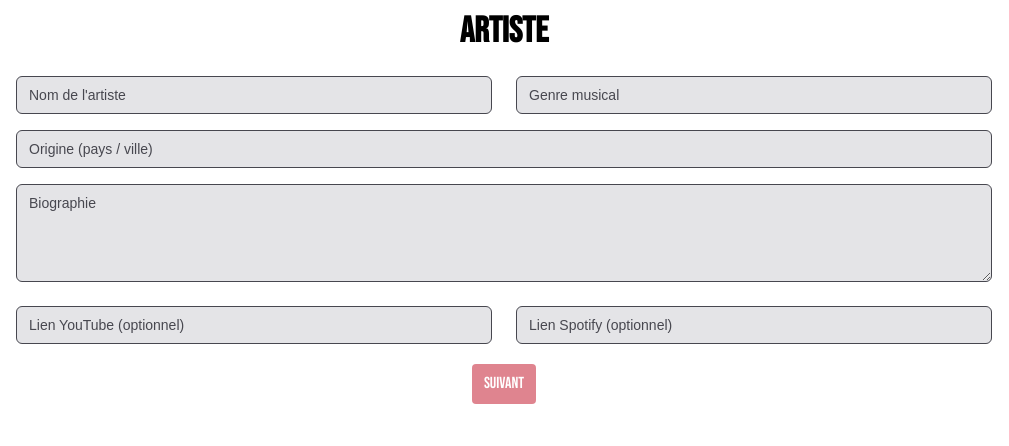
AddArtistModal › affiche une erreur si l'URL Spotify ne correspond pas au domaine attendu
remplir les champs requis de l'etape 1
Type "Test" into the field with placeholder "Nom de l'artiste" at (254, 95), box top-left (16, 76), bottom-right (492, 114)
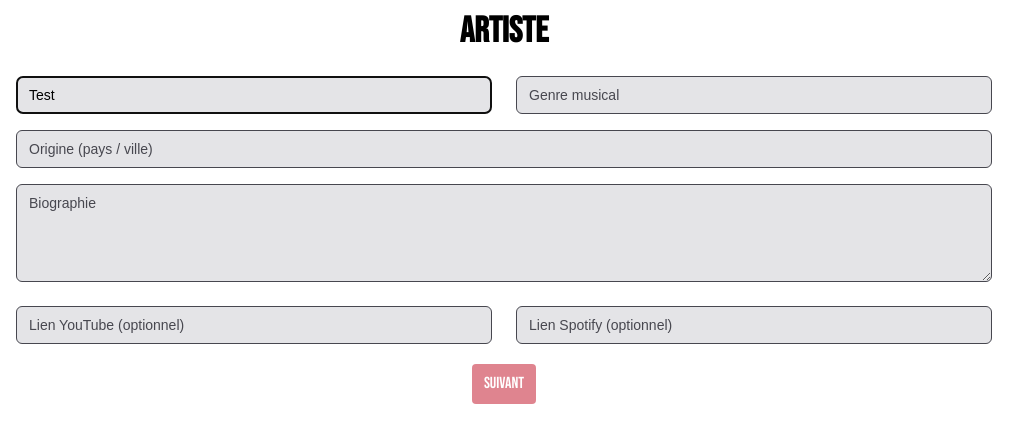
Type "Rock" into the field with placeholder "Genre musical" at (754, 95), box top-left (516, 76), bottom-right (992, 114)
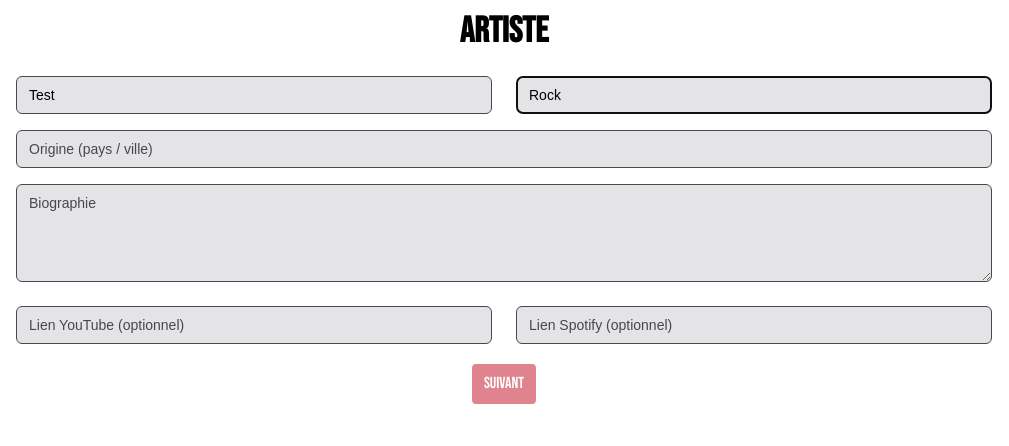
Type "France" into the field with placeholder "Origine (pays / ville)" at (504, 149), box top-left (16, 130), bottom-right (992, 168)
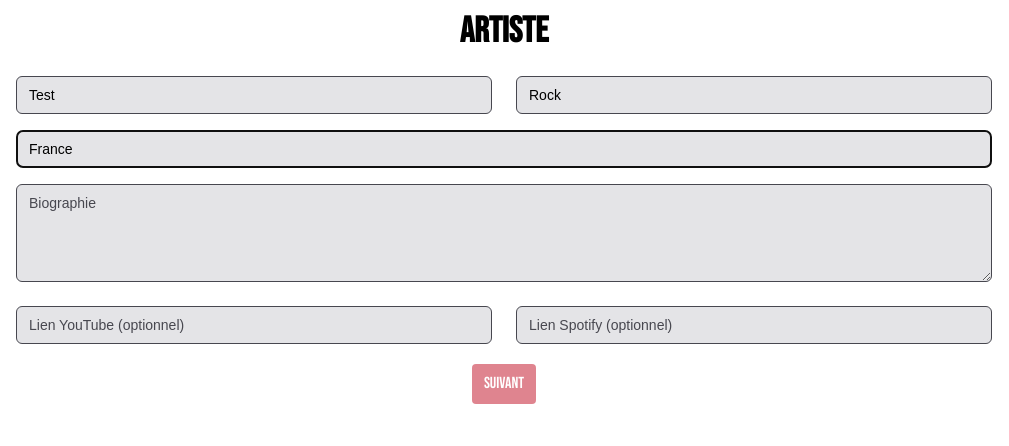
Type "Une bio." into the text box with placeholder "Biographie" at (504, 233), box top-left (16, 184), bottom-right (992, 282)
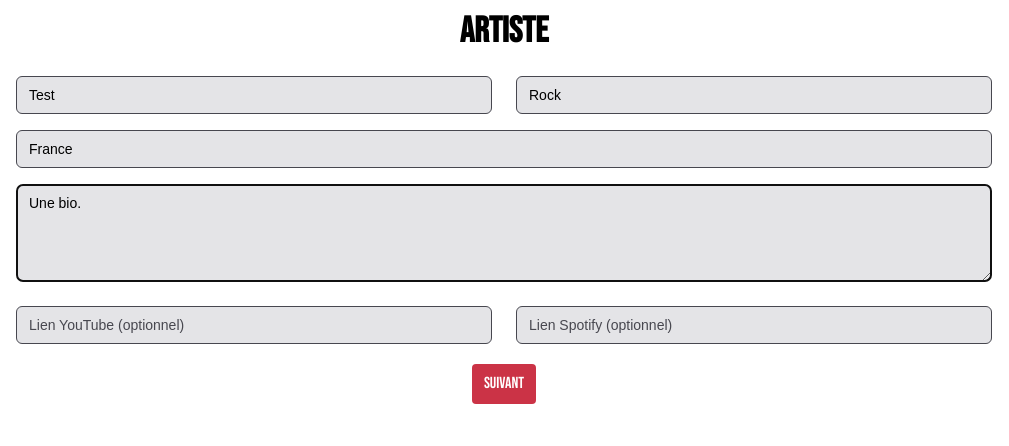
saisir une URL Spotify invalide
Type "https://deezer.com/track/123" into the field with placeholder "Lien Spotify (optionnel)" at (754, 325), box top-left (516, 306), bottom-right (992, 344)
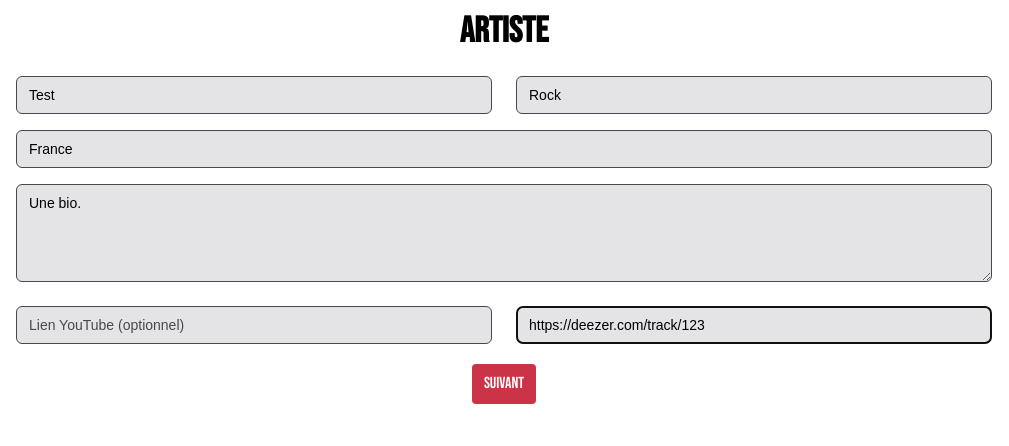
Click the button "Suivant" at (504, 384), box top-left (472, 364), bottom-right (536, 404)
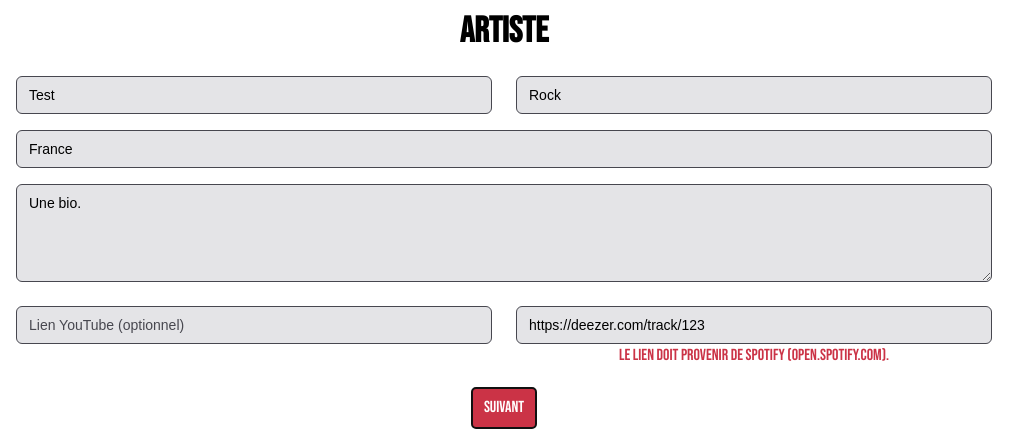
Now the text "Le lien doit provenir de Spotify (open.spotify.com)." is shown, box top-left (619, 346), bottom-right (889, 365)
